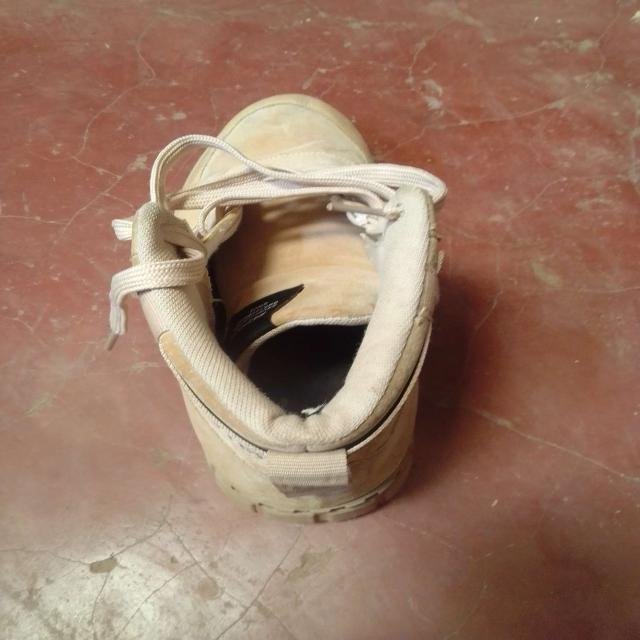shoes: (128, 91, 448, 526)
